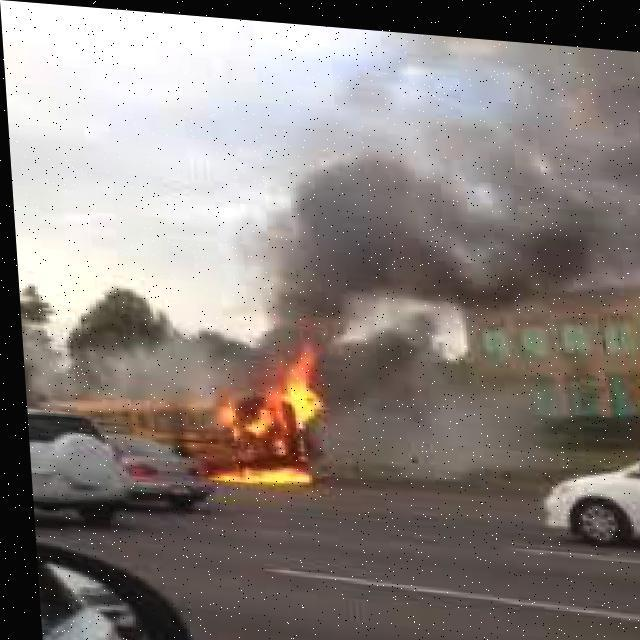Fire: (207, 331, 351, 491)
